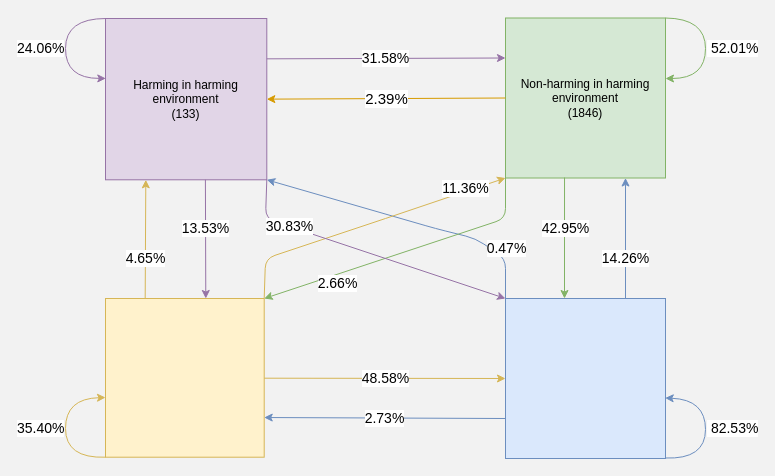
The diagram is 775 pixels wide and 476 high, and some of its shapes have lost their labels. Here are the shapes that lost their labels. From the top down, the centre of each, then its label:
the point at 184,377: Harming in non-harming environment (387)
the point at 585,378: Non-harming in non-harming environment (6705)
